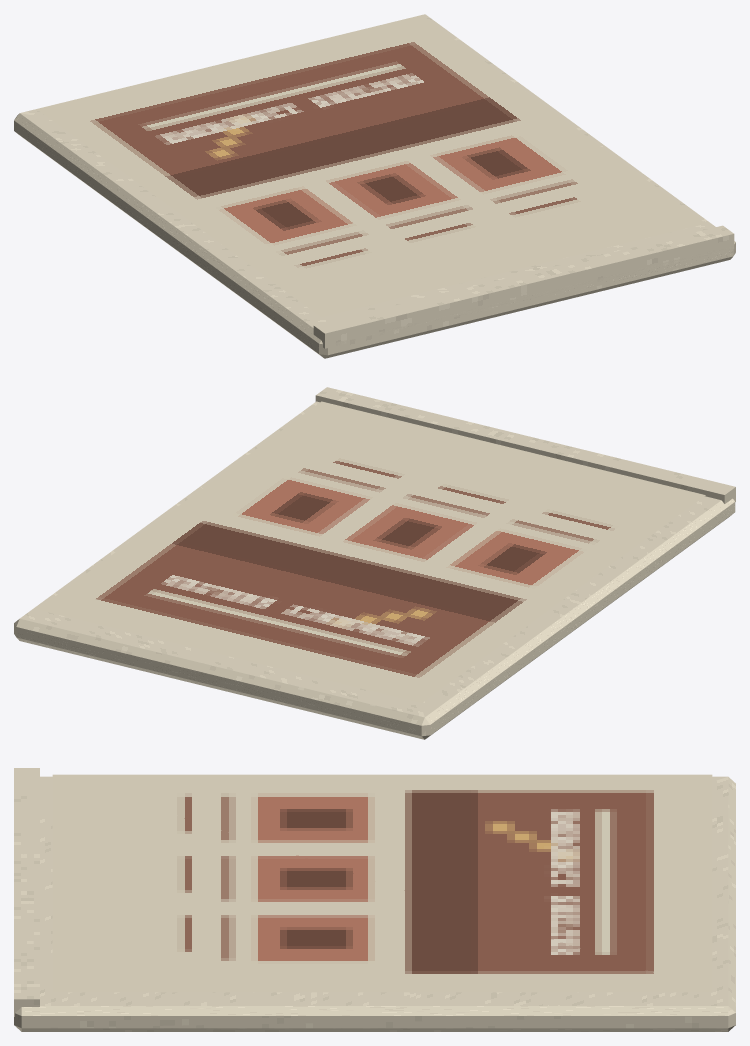
File: evac_pamphlet.glb
3 renders of one model, top to bottom at view 1: azimuth 30°, elevation 25°; view 2: azimuth 150°, elevation 25°; view 3: azimuth 270°, elevation 25°, orthographic. The views are drawn at different scales.
Visible parts, largest first — view 1: block_typeset and illustrated leaflet cover, block_folded three-panel leaflet, block_folded leaf edge; view 2: block_typeset and illustrated leaflet cover, block_folded three-panel leaflet, block_folded leaf edge; view 3: block_typeset and illustrated leaflet cover, block_folded three-panel leaflet, block_folded leaf edge.
Boxes of the visible parts, x1,y1,x2,y2 form: block_typeset and illustrated leaflet cover: (37, 15, 705, 317); block_folded three-panel leaflet: (14, 14, 735, 358); block_folded leaf edge: (313, 225, 734, 348); block_typeset and illustrated leaflet cover: (37, 401, 705, 703); block_folded three-panel leaflet: (14, 401, 735, 739); block_folded leaf edge: (315, 387, 735, 503); block_typeset and illustrated leaflet cover: (52, 774, 712, 992); block_folded three-panel leaflet: (14, 776, 735, 1031); block_folded leaf edge: (14, 768, 39, 1016).
Bounding box in the file's own units: 0.0754 × 0.00501 × 0.0977.
1 material, 1 textured.
